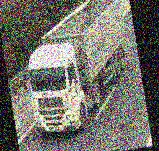truck: (17, 0, 140, 140)
